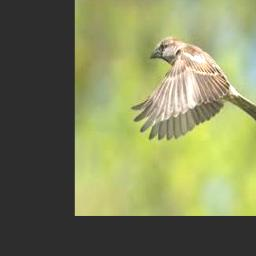Sparrow: (131, 36, 256, 139)
